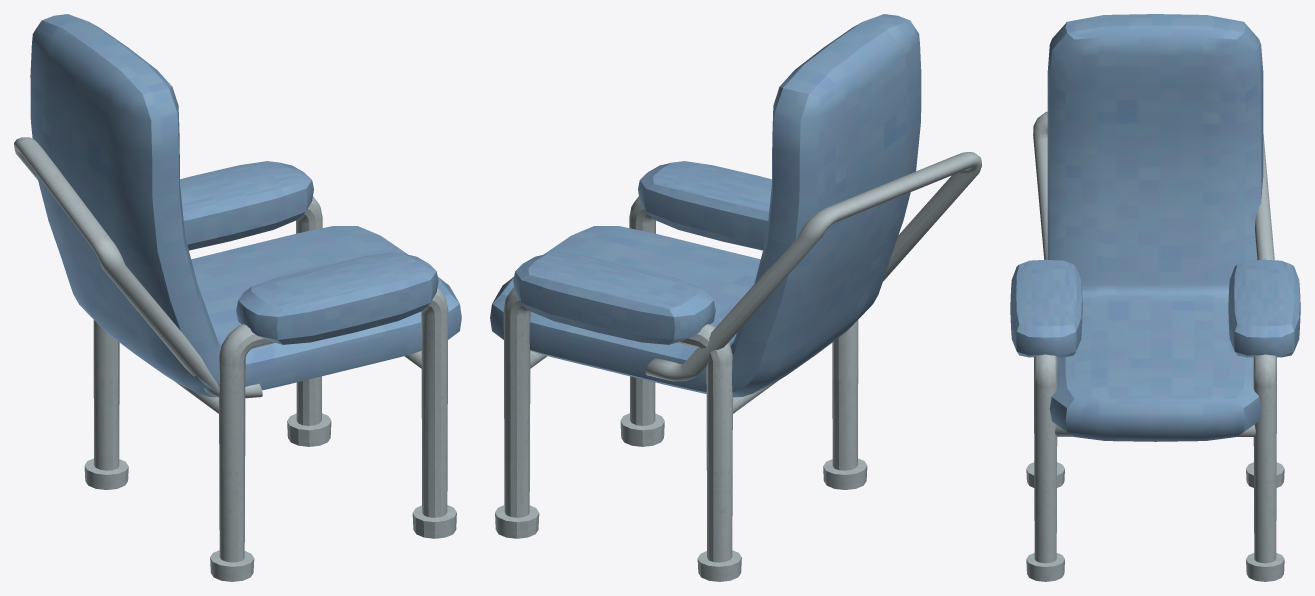
File: HospitalChair.fbx
3 views of the same model, side by side, from view 1: azimuth 30°, elevation 25°; view 2: azimuth 150°, elevation 25°; view 3: azimuth 270°, elevation 25° (orthographic). The views are drawn at different scales.
Visible parts, largest first — view 1: HospitalChair, Cylinder.051, Cube.005, Cylinder.053; view 2: HospitalChair, Cube.005, Cylinder.051, Cylinder.053; view 3: HospitalChair, Cube.005, Cylinder.051, Cylinder.053.
Boxes of the visible parts, box(x1,y1,x2,y2) form: HospitalChair: box(30, 14, 461, 397); Cylinder.051: box(84, 196, 456, 581); Cube.005: box(180, 161, 438, 344); Cylinder.053: box(14, 137, 262, 398); HospitalChair: box(490, 14, 921, 397); Cube.005: box(513, 161, 771, 344); Cylinder.051: box(495, 196, 867, 581); Cylinder.053: box(645, 152, 981, 381); HospitalChair: box(1047, 14, 1263, 441); Cube.005: box(1010, 259, 1300, 357); Cylinder.051: box(1026, 354, 1284, 581); Cylinder.053: box(1033, 111, 1274, 260).
Size of the model in its own units: 791 by 981 by 585.
